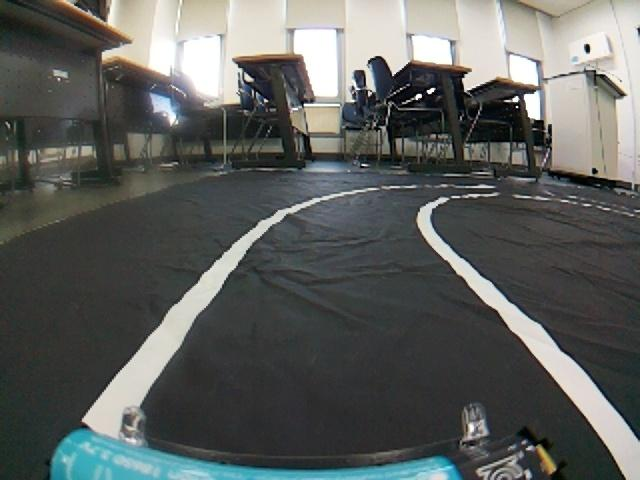right: (0, 210, 640, 479)
